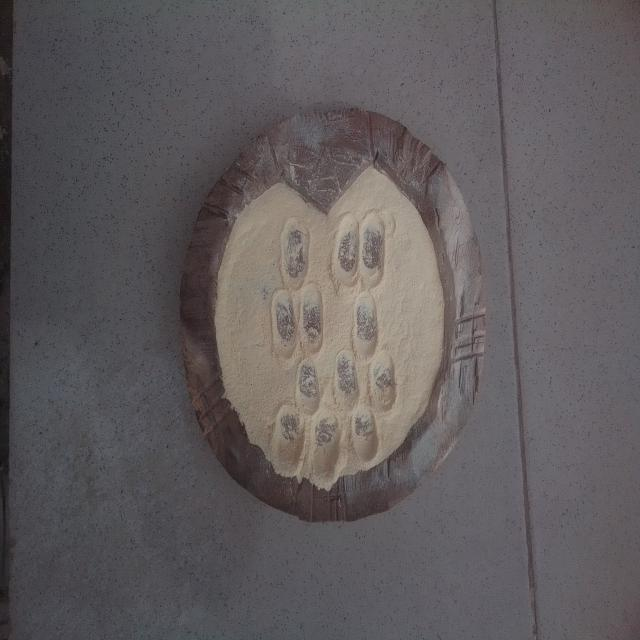double: (277, 404, 340, 482), (334, 213, 386, 292), (271, 284, 324, 358), (336, 348, 398, 411)
single: (277, 212, 311, 294), (351, 291, 382, 364), (292, 360, 324, 420), (350, 406, 382, 466)
